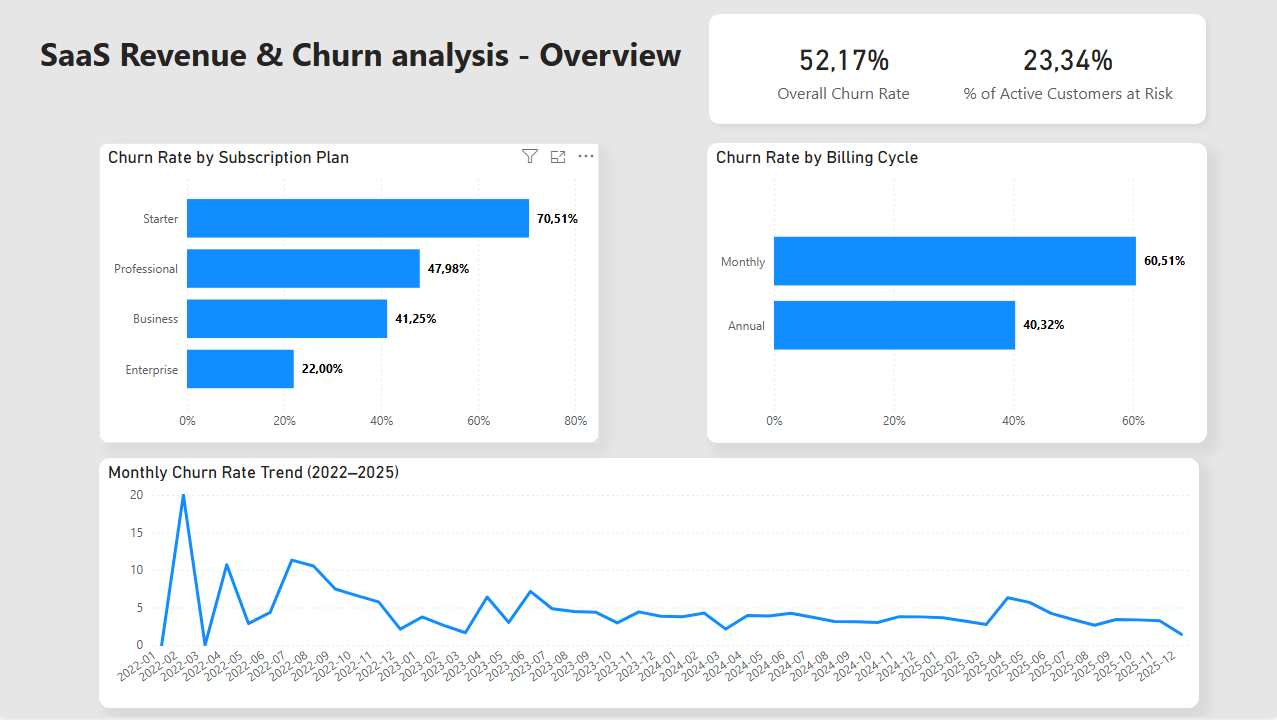

What the dashboard file says about the page in this screenshot:
{"tool":"powerbi","page":{"name":"Overview|Churn trend","canvas":[1280,720],"ordinal":0},"visuals":[{"type":"shape","box":[703,8,515,128],"z":1000},{"type":"card","fields":{"Values":["Measures (2).Overall Churn Rate"]},"box":[767,34,159,75],"z":1500},{"type":"card","title":"% At risk","fields":{"Values":["Measures (2).Pct At Risk"]},"box":[961,34,220,75],"z":1750},{"type":"lineChart","title":"Monthly Churn Rate Trend (2022–2025)","fields":{"Y":["Avg(Monthly_revenue_updated.monthly_churn_rate_pct)"],"Category":["Monthly_revenue_updated.month"]},"box":[102.1,461,1100,250],"z":2000},{"type":"barChart","title":"Churn Rate by Billing Cycle","fields":{"Y":["Measures (2).Overall Churn Rate"],"Category":["Subscription.billing_cycle"]},"box":[710,146,500,300],"z":3000},{"type":"barChart","title":"Churn Rate by Subscription Plan","fields":{"Y":["Measures (2).Overall Churn Rate"],"Category":["Subscription.plan"]},"box":[102,146,500,300],"z":4000},{"type":"textbox","box":[38,29,664,86],"z":5000}]}

Visuals, with their boxes in screenshot pixels (x1, y1, x2, y2), scaled from the page's 1280x720 canvas onto the 1277x720 screenshot:
shape: 701, 8, 1215, 136
card - Measures (2).Overall Churn Rate: 765, 34, 924, 109
"% At risk" card: 959, 34, 1178, 109
"Monthly Churn Rate Trend (2022–2025)" lineChart: 102, 461, 1199, 711
"Churn Rate by Billing Cycle" barChart: 708, 146, 1207, 446
"Churn Rate by Subscription Plan" barChart: 102, 146, 601, 446
textbox: 38, 29, 700, 115
